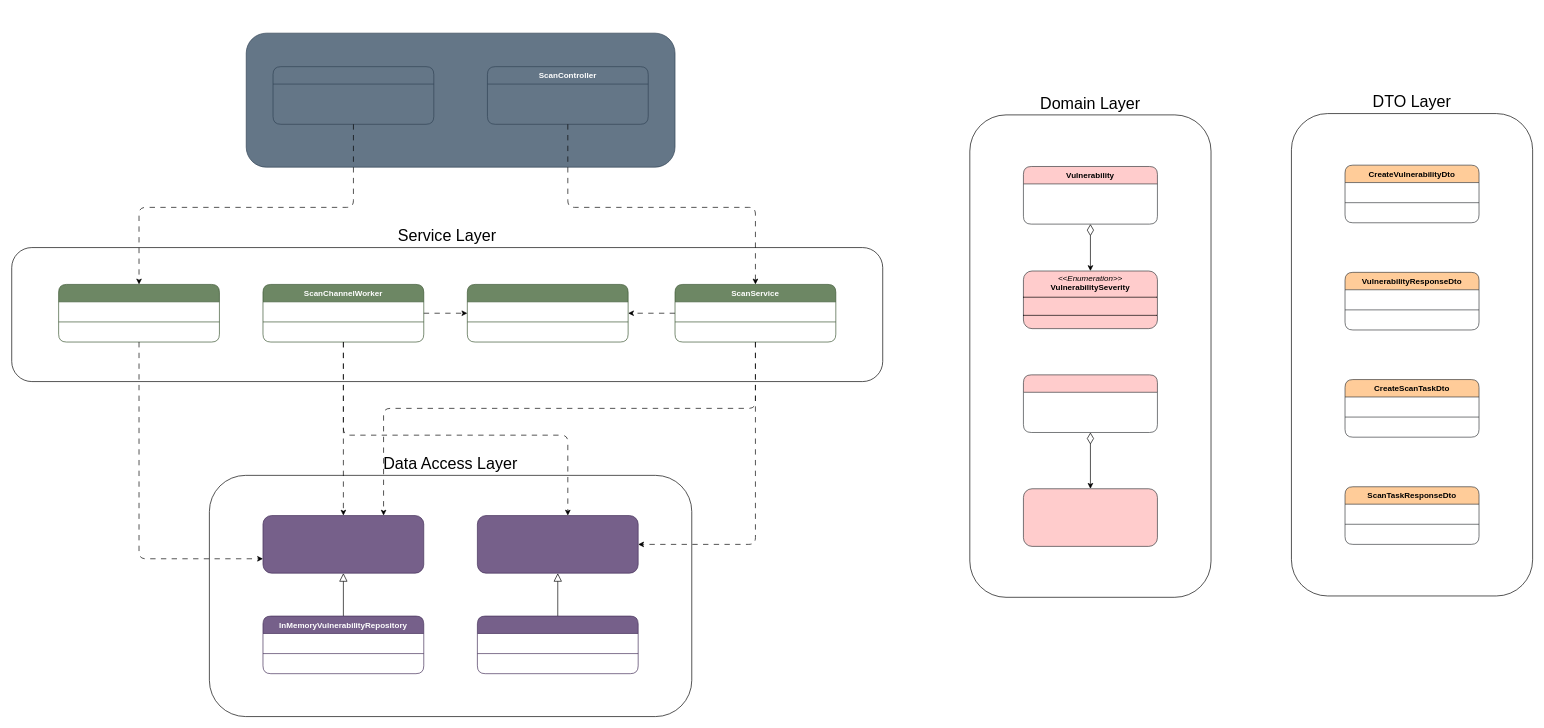
Some shapes in this 1544 by 728 pixel diagram are drawn without their labels. Each missing label, with the centre of its shape:
<<Enumeration>> ScanTaskStatus: point (1090, 517)
<<Interface>> IScanRepository: point (557, 544)
<<Interface>> IVulnerabilityRepository: point (343, 544)
InMemoryScanRepository: point (557, 644)
ScanChannelService: point (547, 313)
ScanTask: point (1090, 403)
VulnerabilityController: point (353, 95)
VulnerabilityService: point (138, 313)
